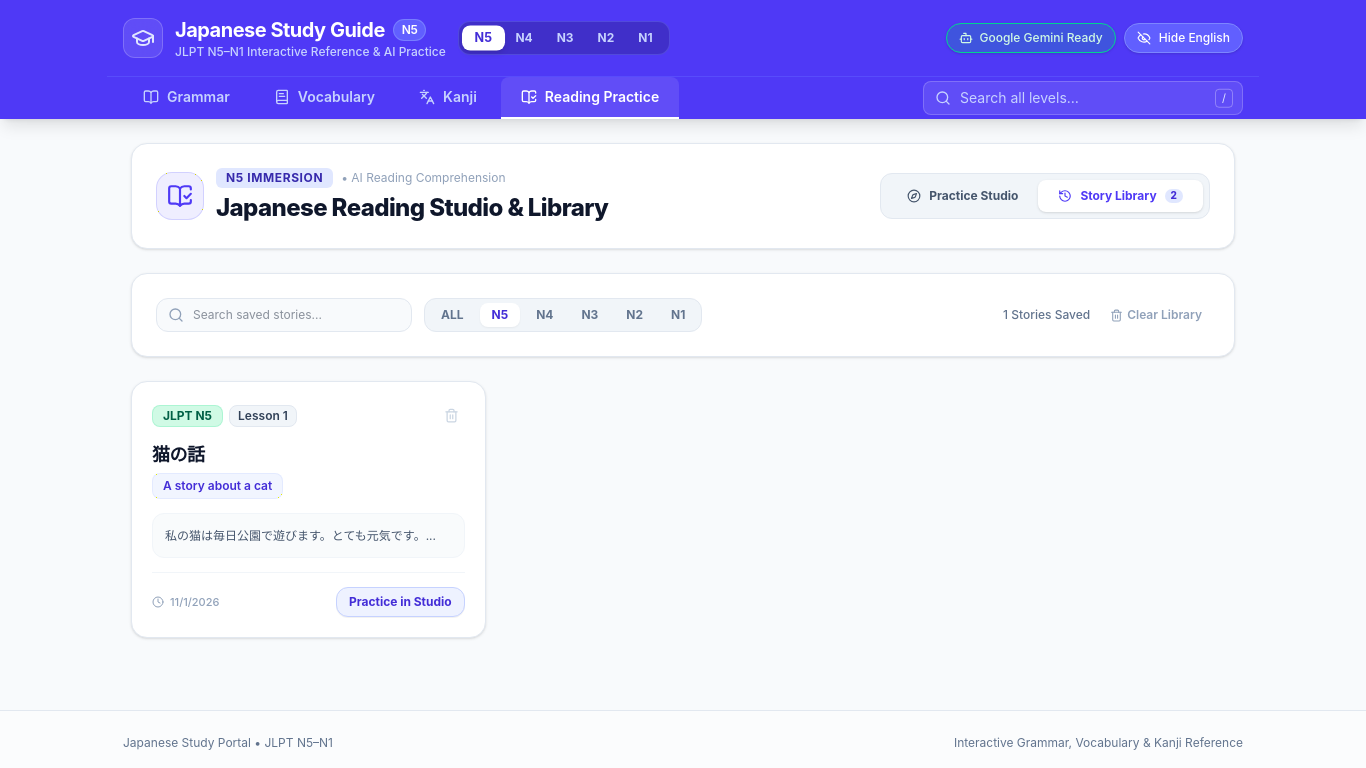
Test: Story Library flow › opens a story in the modal, answers inside it, and the score shows on its card
Click the heading "猫の話" at (178, 455), box [152,443,205,468]
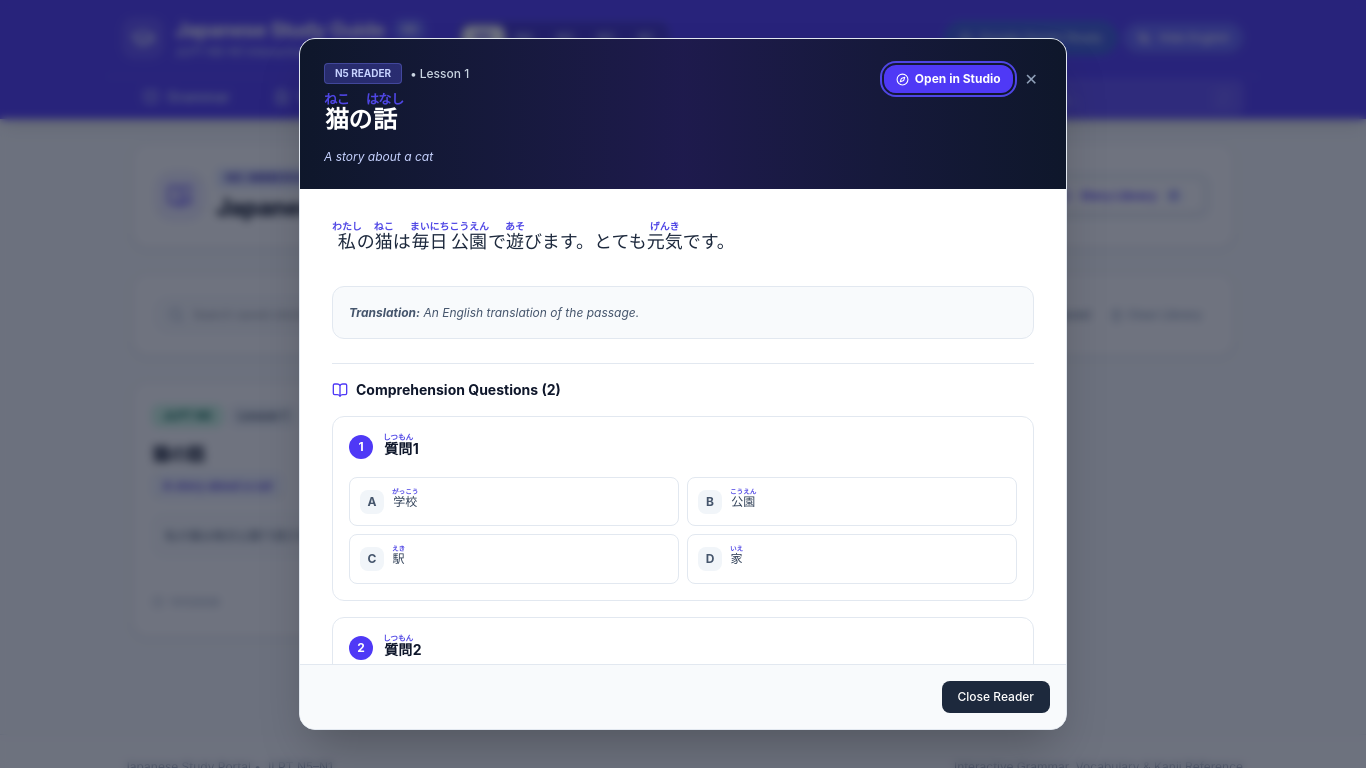
Check: the text "N5 Reader" does not show "答こたえは公園です (1)", box [299,38,1067,730]
Check: the heading "Comprehension Questions (2)" is shown, box [332,380,561,400]
Check: the text "Translation: An English translation of the passage." is shown, box [332,286,1034,339]
Click the button "B 公園 こうえん" at (710, 502), box [687,477,1017,526]
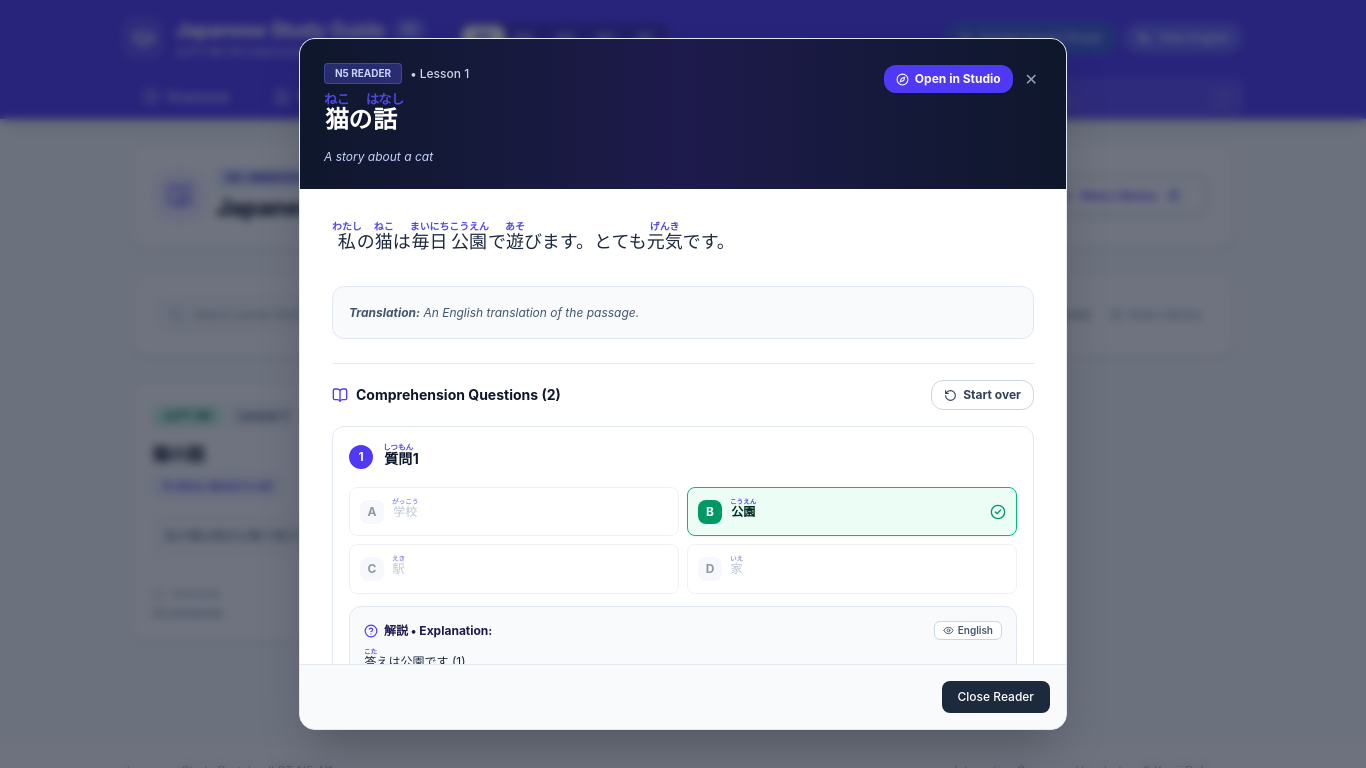
Check: the button "Start over" is shown, box [931,380,1034,410]
Click the button "Close Reader" at (996, 697), box [942,681,1050,713]
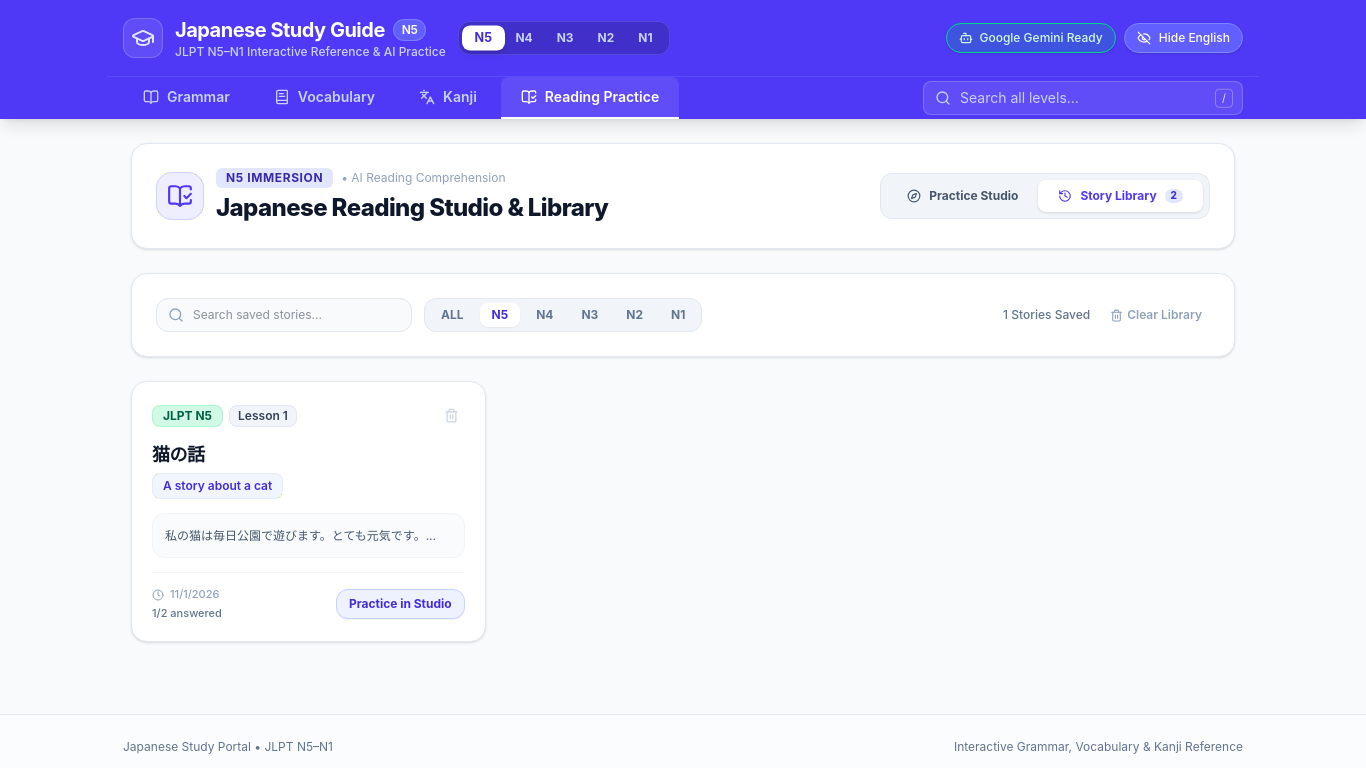
Check: the text "1/2 answered" is shown, box [152,606,222,621]
Check: the text "N5 Reader" is gone
